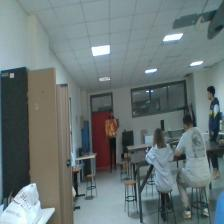fire-poster: (105, 119, 117, 136)
